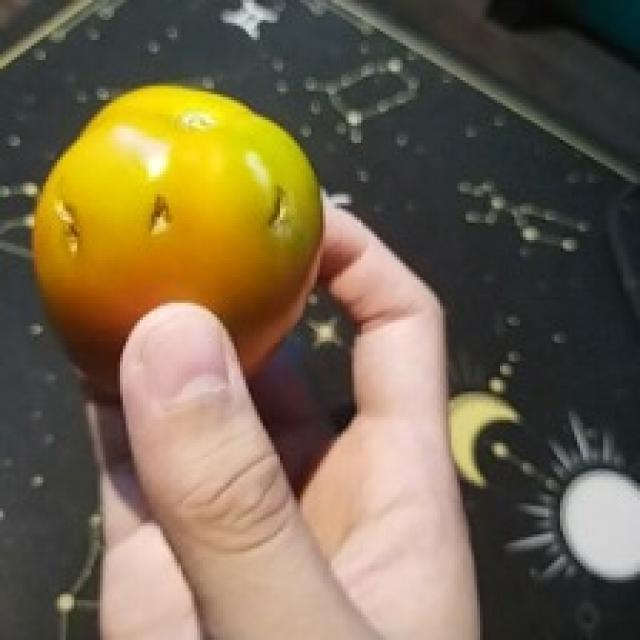Rotten Tomato: (17, 71, 330, 411)
